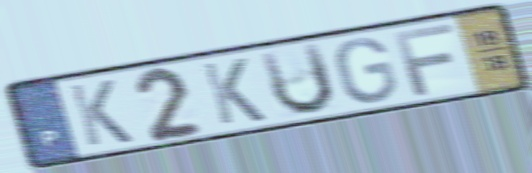2: (133, 64, 208, 145)
F: (390, 20, 458, 98)
G: (332, 36, 401, 106)
K: (198, 55, 270, 128), (65, 77, 137, 149)
U: (255, 40, 339, 119)
